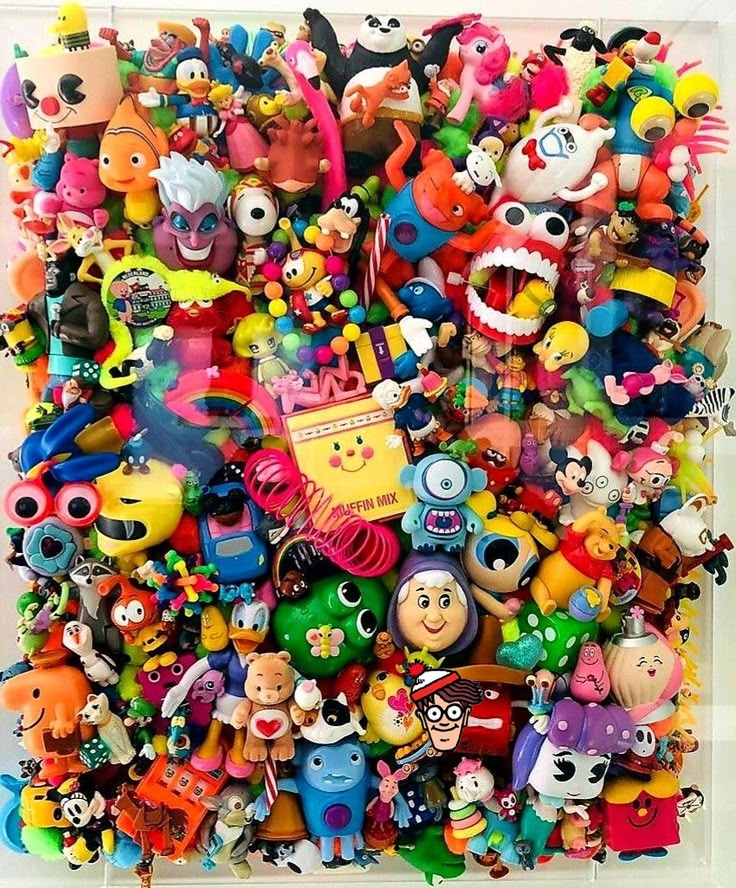waldo: (405, 658, 484, 752)
